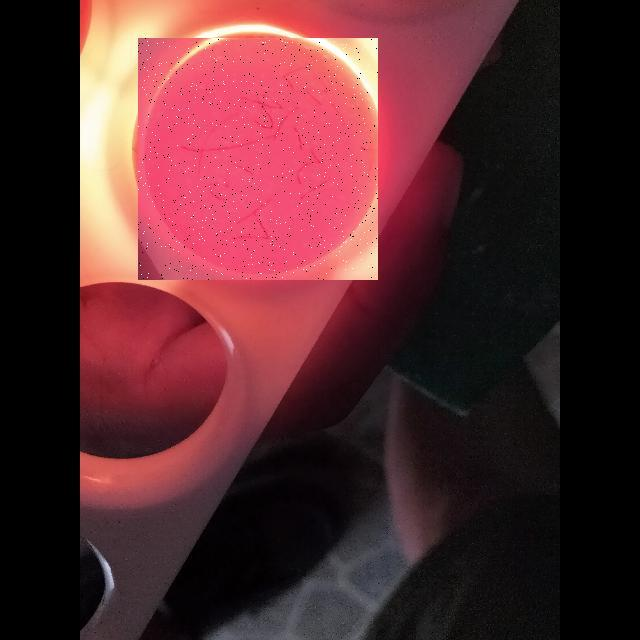Infertile: (138, 38, 378, 280)
